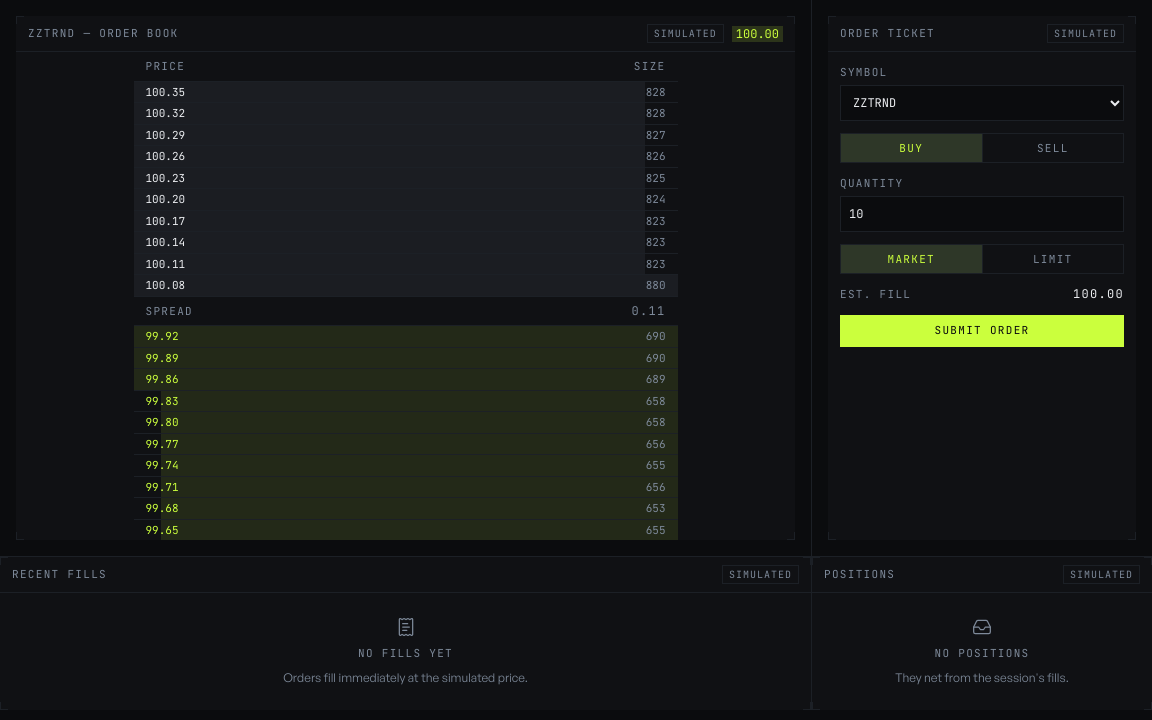
Test: Execution view › shows the limit price field only for a limit order
Check: the form with test id "order-ticket" is shown, box [840,64,1124,346]
Check: the field labelled "limit price" is not shown
Click the button "limit". click: point(1053, 259)
box: [982,244,1123,273]
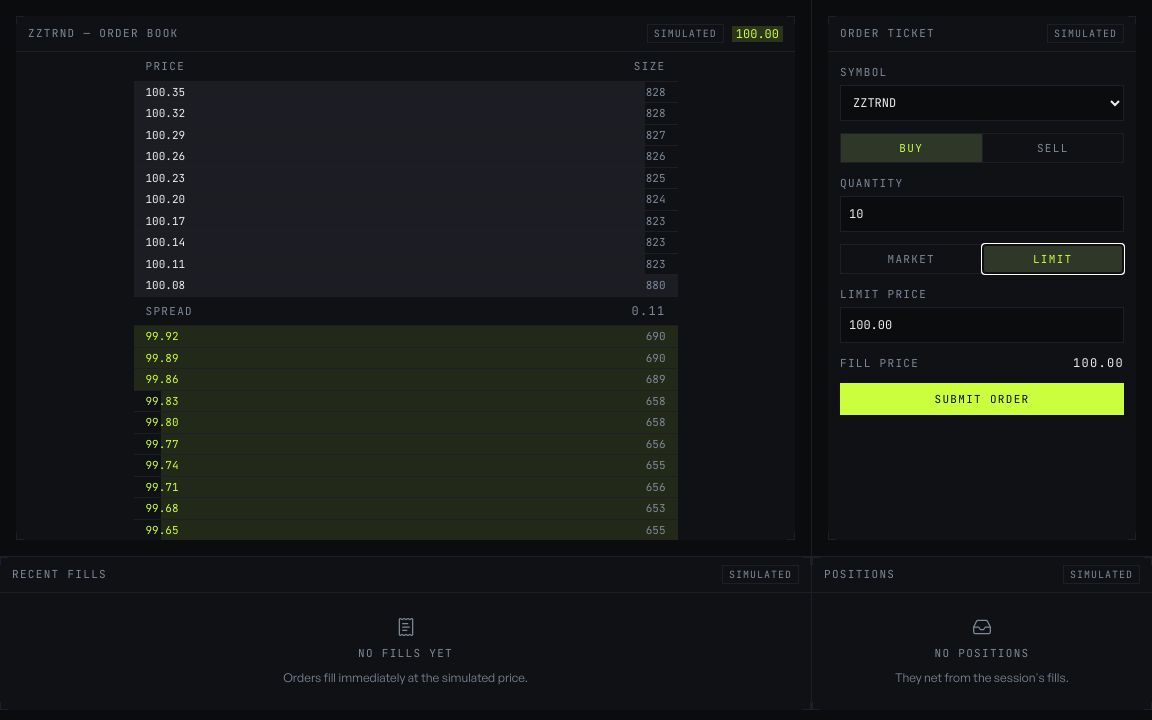
Check: the number field labelled "Limit price" is shown, box [840,306,1124,342]
Click the button "market". click: point(911, 259)
box: [841,244,982,273]
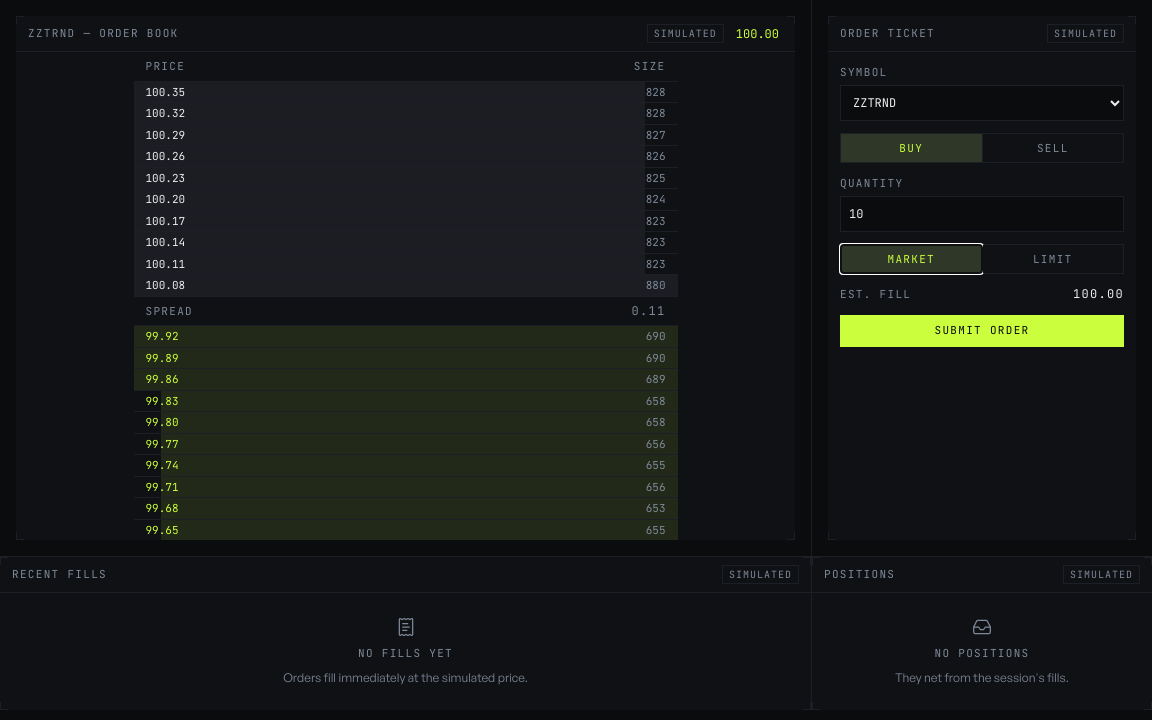
Check: the text labelled "Limit price" is gone
